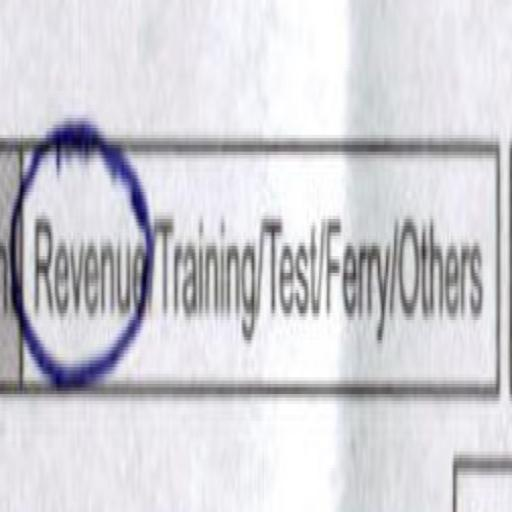check: (15, 39, 152, 438)
